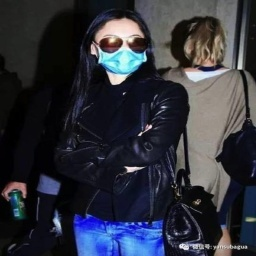correctlyWear: (89, 27, 149, 74)
